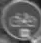bike lane: (3, 2, 38, 35)
